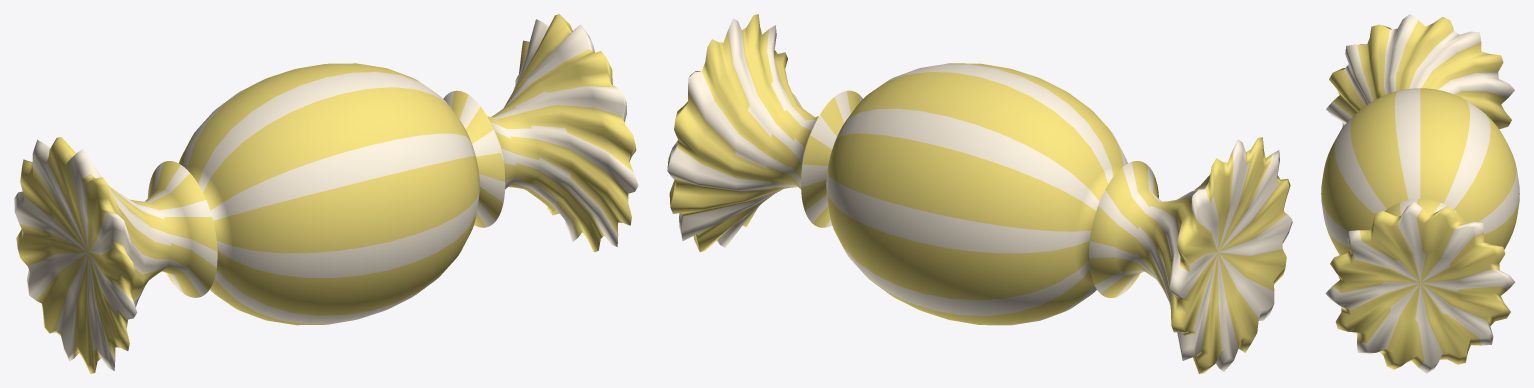
Rendered from wrapped_candy.glb.
3 views of the same model, side by side, from view 1: azimuth 30°, elevation 25°; view 2: azimuth 150°, elevation 25°; view 3: azimuth 270°, elevation 25° (orthographic). The views are drawn at different scales.
Visible parts, largest first — view 1: wrapped_candy; view 2: wrapped_candy; view 3: wrapped_candy.
Boxes of the visible parts, x1,y1,x2,y2 form: wrapped_candy: (14, 14, 638, 373); wrapped_candy: (667, 14, 1292, 373); wrapped_candy: (1321, 14, 1519, 373).
Size of the model in its own units: 0.8 by 0.35 by 0.35.
